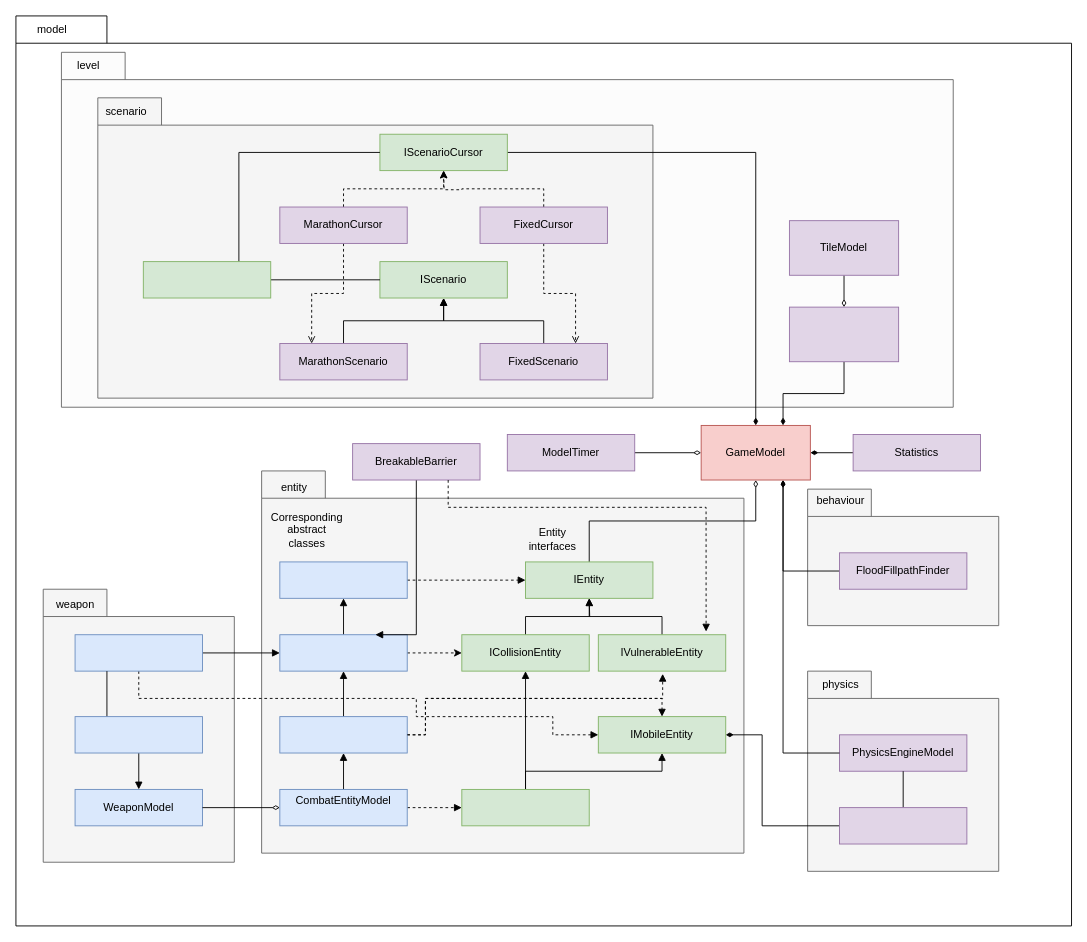
The diagram is 1087 pixels wide and 942 high, and some of its shapes have lost their labels. The centre of each missing label's shape, as x and y in pixels:
"CollisionEntityModel" goes at point 343,652.
"CreatureModel" goes at point 343,734.
"EntityModel" goes at point 343,579.
"ICombatEntity" goes at point 525,807.
"IGameContext" goes at point 206,279.
"MapModel" goes at point 844,334.
"MovementHandler" goes at point 903,825.
"Projectile" goes at point 138,652.
"ProjectileWeaponModel" goes at point 138,734.
